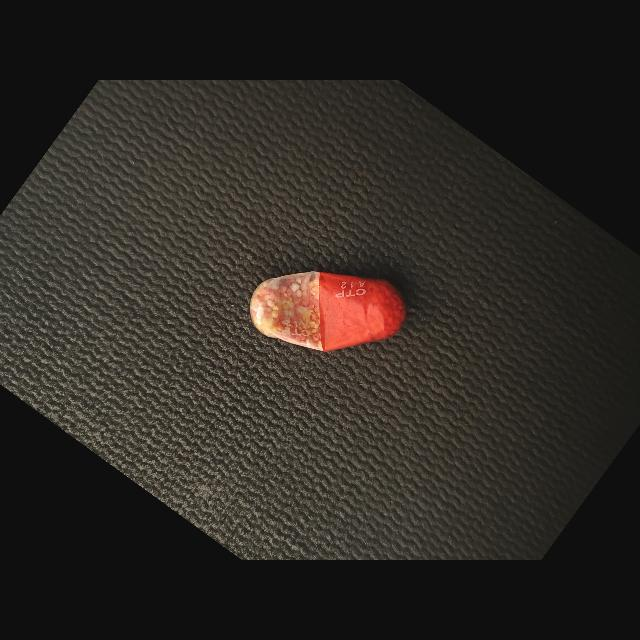Defective Capsule: (250, 271, 406, 352)
